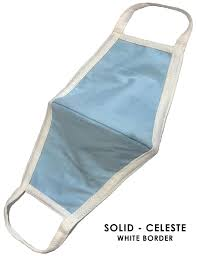cloth_mask: (2, 2, 194, 254)
